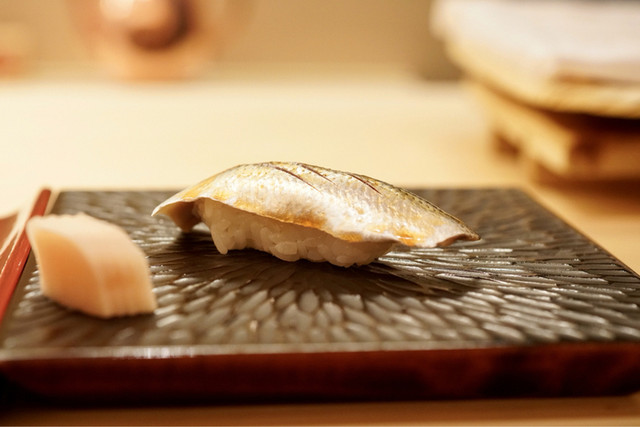spotted-shad: (149, 155, 486, 274)
